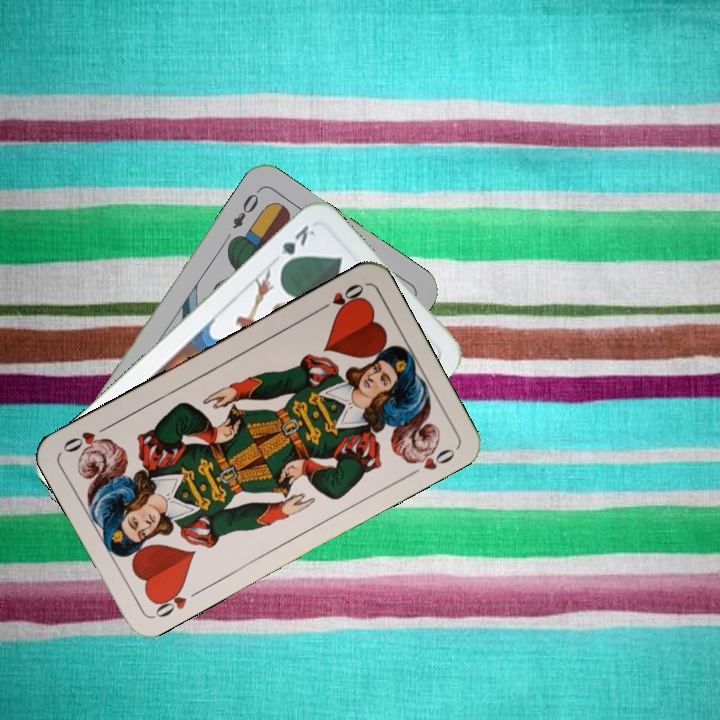EO: (228, 185, 263, 232)
GK: (276, 220, 318, 271)
HO: (149, 581, 204, 621), (312, 279, 367, 315)
